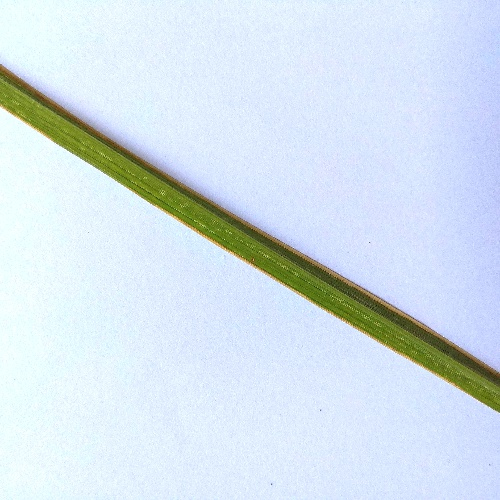Busuk Leher: (342, 269, 388, 298), (300, 250, 339, 276)
